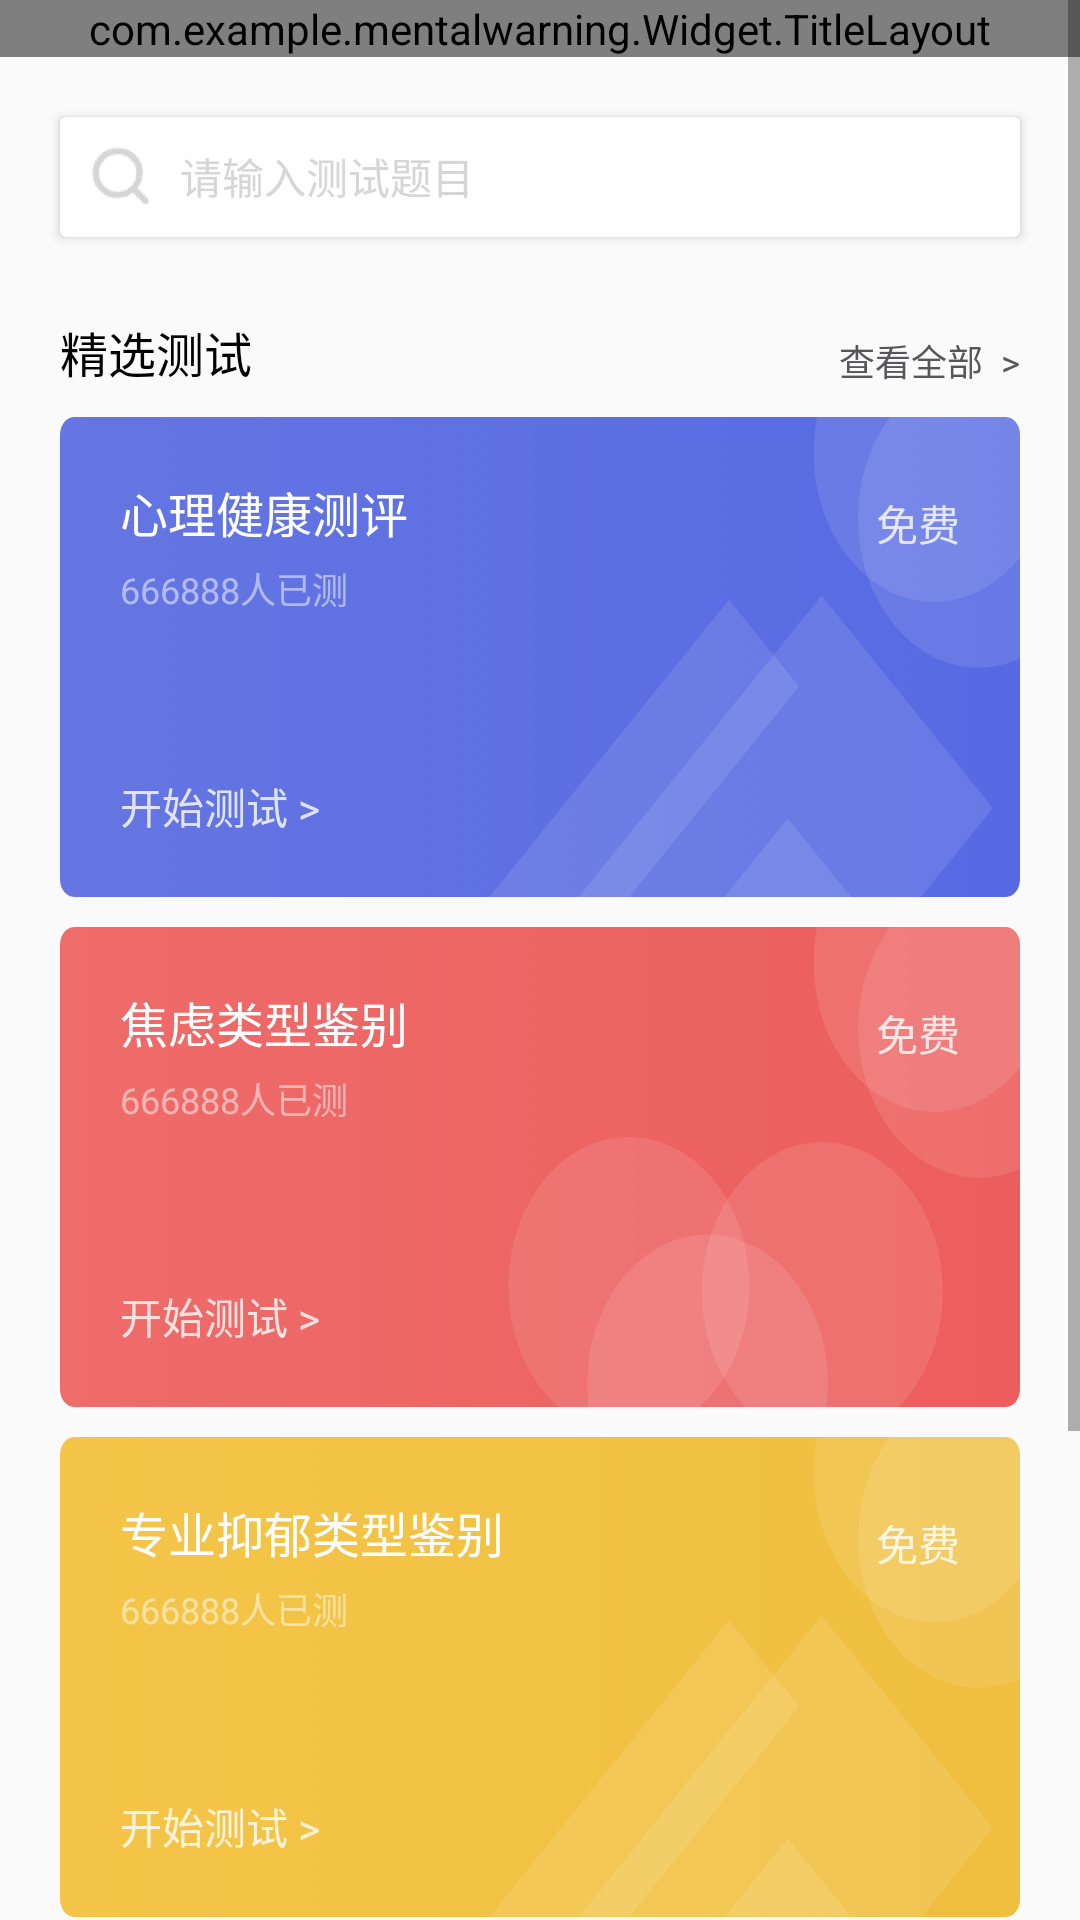

Icon bounding boxes for this 1080px x 1920px phone screenshot, format (x1, y1, x2, y2):
search: (93, 149, 148, 204)
